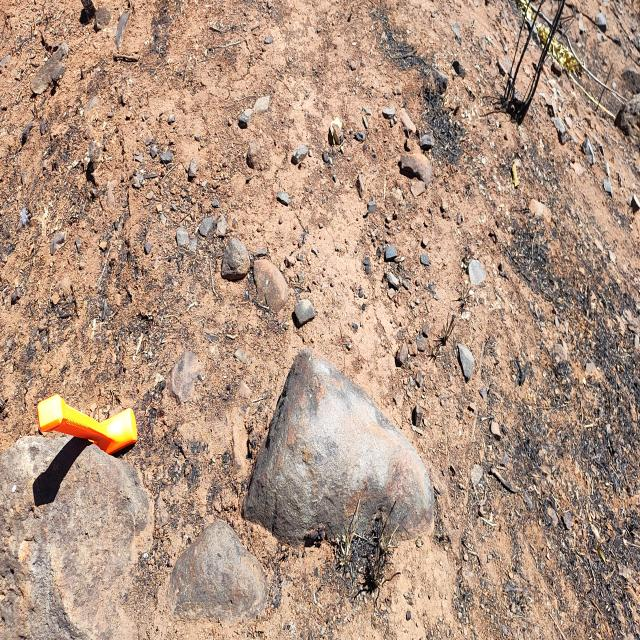Orange_hammer: (36, 392, 138, 456)
